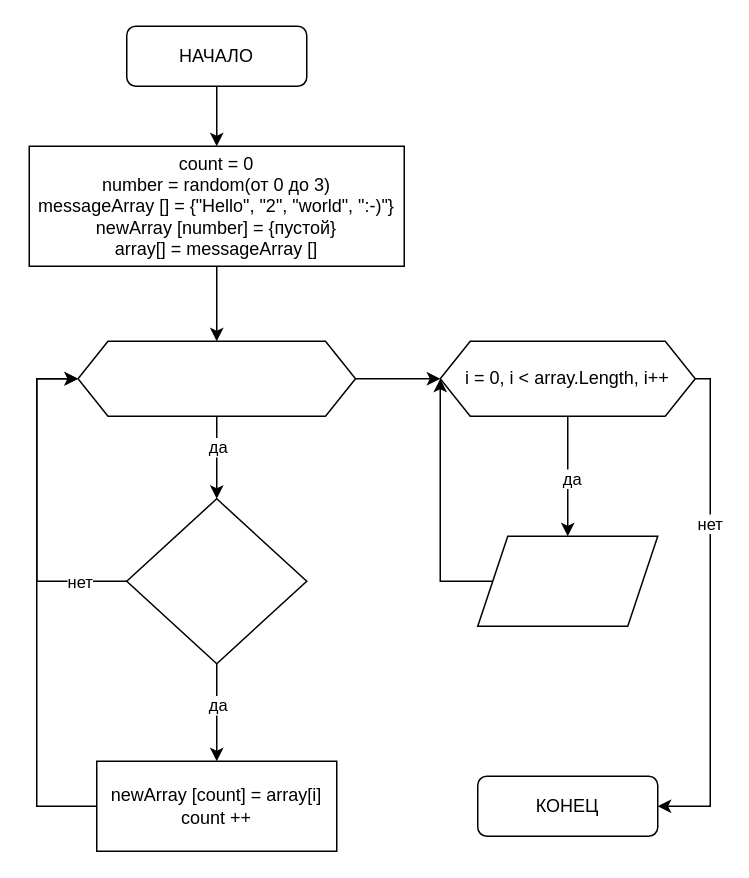
The diagram is 749 pixels wide and 878 high, and some of its shapes have lost their labels. Here are the shapes that lost their labels. From the top down, the centre of each, then its label:
(216,378): i = 0, i < newArray.Length, i++
(216,580): count <= number ?
(567,580): Вывод данных array[i]
